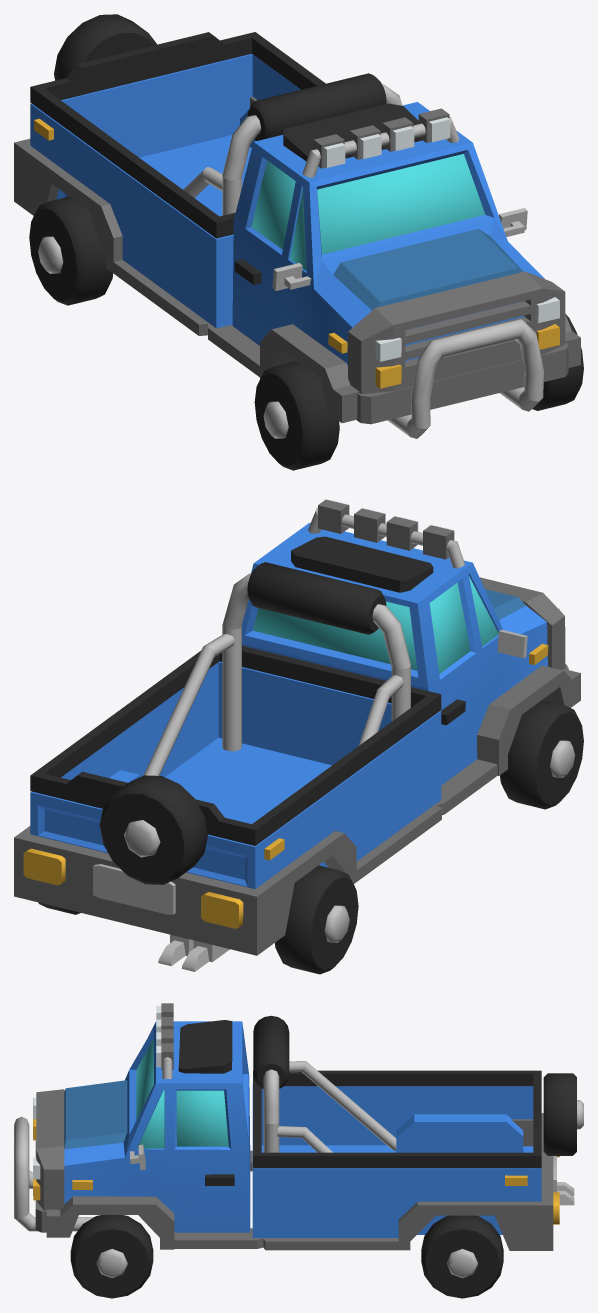
The model's file is PlayerCar_04_Pickup.fbx.
3 views of the same model, one above another, from view 1: azimuth 30°, elevation 25°; view 2: azimuth 150°, elevation 25°; view 3: azimuth 270°, elevation 25° (orthographic). The views are drawn at different scales.
Parts seen in each view (by area): view 1: Cabine, Under_Car, Wheels, Windows, PickUp_LV4, Pipes, Benet, Soft_Rulon, Wheel_Rear, Luck, Light_Top_Glass, Lighters_Top (+4 smaller); view 2: Cabine, Under_Car, PickUp_LV4, Wheels, Pipes, Wheel_Rear, Windows, Soft_Rulon, Luck, Lighters_Top, Sign_Back, LIghts_Back (+3 smaller); view 3: Cabine, Under_Car, Wheels, PickUp_LV4, Pipes, Windows, Benet, Wheel_Rear, Luck, Soft_Rulon, Lighters_Top, LIghts_Side.
Boxes of the visible parts, <box> form: Cabine: <box>30,54,544,365</box>; Under_Car: <box>14,96,580,424</box>; Wheels: <box>29,196,583,470</box>; Windows: <box>251,154,485,270</box>; PickUp_LV4: <box>30,32,325,238</box>; Pipes: <box>183,84,543,438</box>; Benet: <box>333,229,523,310</box>; Soft_Rulon: <box>247,73,386,140</box>; Wheel_Rear: <box>54,14,156,80</box>; Luck: <box>283,103,422,161</box>; Light_Top_Glass: <box>323,117,450,167</box>; Lighters_Top: <box>313,108,449,168</box>; Cabine: <box>30,523,547,889</box>; Under_Car: <box>14,577,580,955</box>; PickUp_LV4: <box>30,645,441,845</box>; Wheels: <box>38,700,583,974</box>; Pipes: <box>143,507,464,775</box>; Wheel_Rear: <box>99,775,207,884</box>; Windows: <box>253,576,498,673</box>; Soft_Rulon: <box>247,562,386,634</box>; Luck: <box>291,536,433,592</box>; Lighters_Top: <box>318,499,453,559</box>; Sign_Back: <box>93,864,175,914</box>; LIghts_Back: <box>23,848,243,928</box>; Cabine: <box>64,1021,541,1237</box>; Under_Car: <box>35,1089,553,1250</box>; Wheels: <box>70,1215,503,1298</box>; PickUp_LV4: <box>253,1070,541,1168</box>; Pipes: <box>14,1057,396,1231</box>; Windows: <box>136,1038,228,1148</box>; Benet: <box>64,1080,127,1149</box>; Wheel_Rear: <box>543,1073,583,1155</box>; Luck: <box>178,1020,232,1073</box>; Soft_Rulon: <box>253,1015,289,1088</box>; Lighters_Top: <box>161,1003,173,1069</box>; LIghts_Side: <box>72,1175,527,1190</box>.
Bounding box in the file's own units: 273 × 247 × 584.
